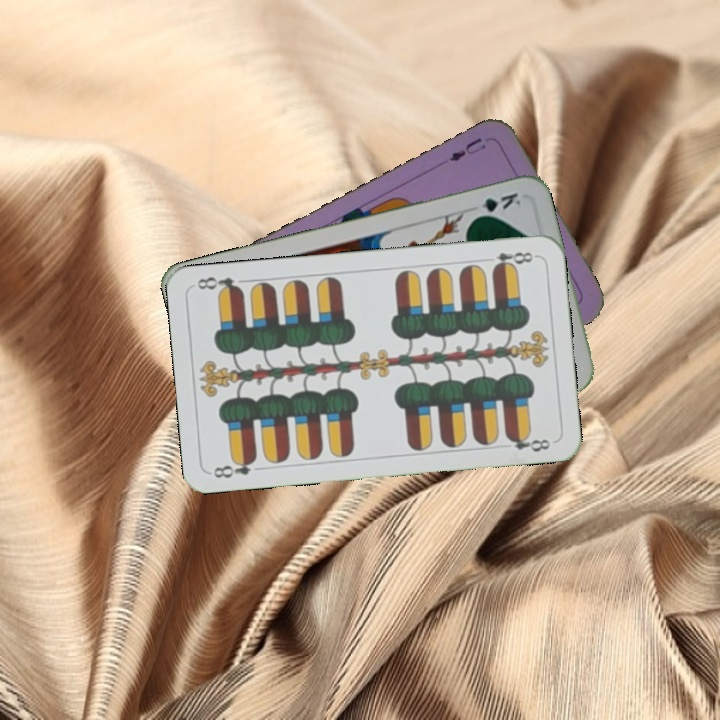E8: (209, 453, 260, 481), (480, 248, 539, 272)
EU: (445, 133, 489, 164)
GK: (469, 188, 524, 221)
